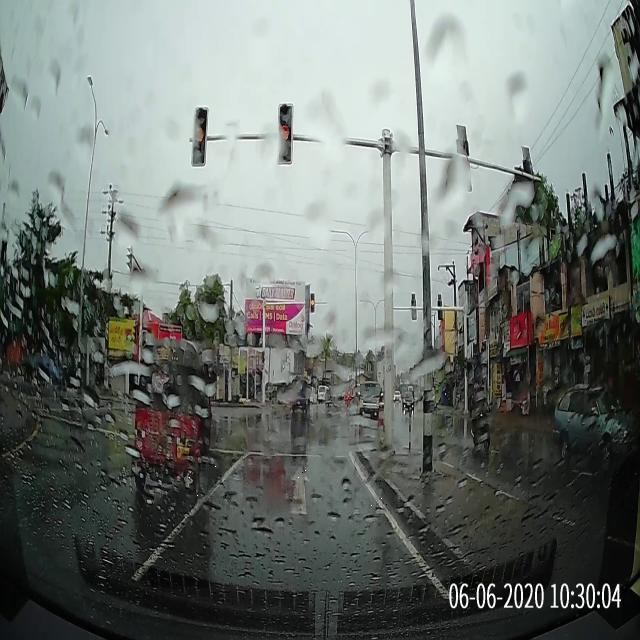forward: (186, 457, 398, 524)
